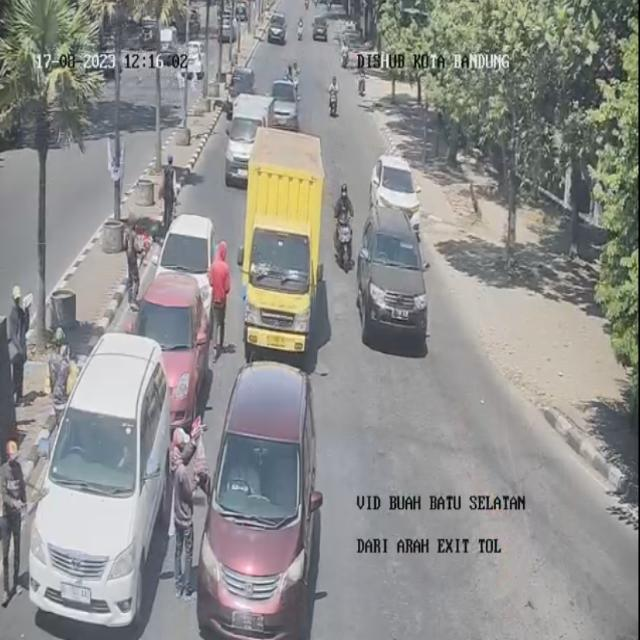cars: (33, 334, 173, 605), (195, 353, 322, 640), (134, 276, 212, 410), (367, 208, 423, 344), (155, 196, 218, 315), (369, 145, 429, 264), (270, 72, 302, 141), (225, 62, 255, 116), (266, 11, 288, 46), (314, 15, 330, 43)
motorcycle: (333, 180, 352, 268), (325, 68, 341, 122), (340, 35, 350, 69), (296, 15, 306, 40)
truck: (248, 128, 328, 358), (219, 92, 277, 174)
